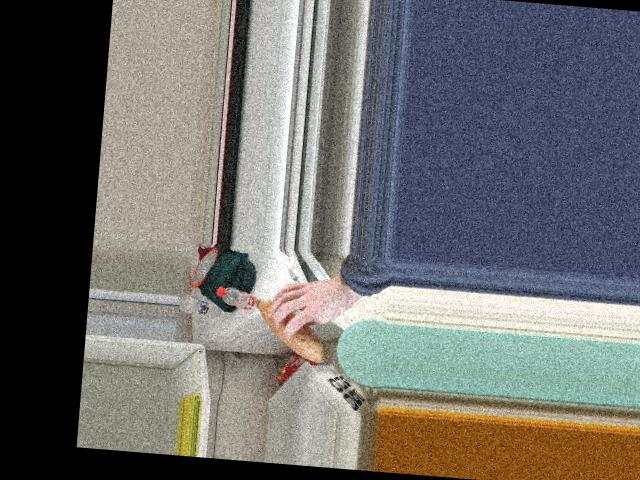sweet_potato: (254, 283, 319, 359)
